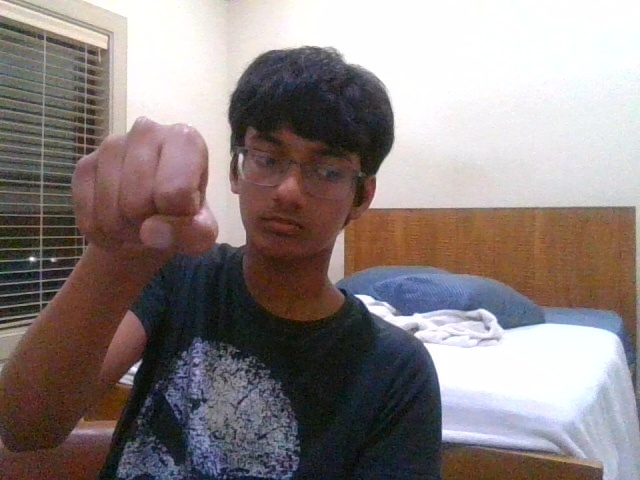yes: (71, 117, 218, 254)
